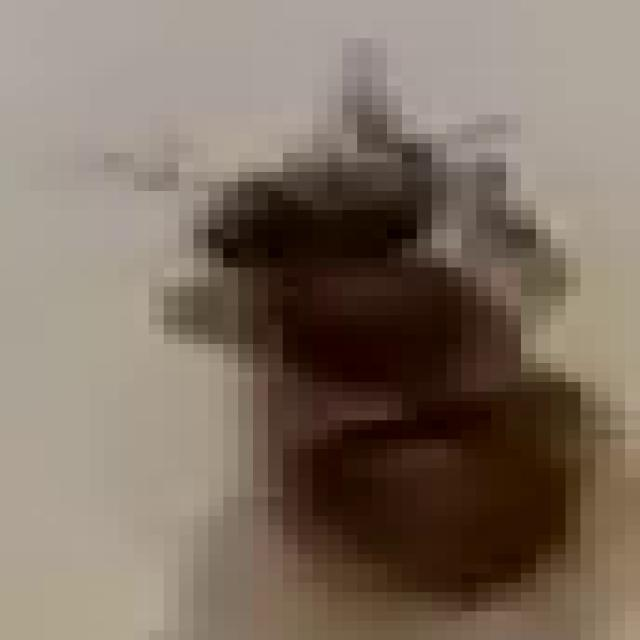honeybee: (155, 84, 613, 626)
